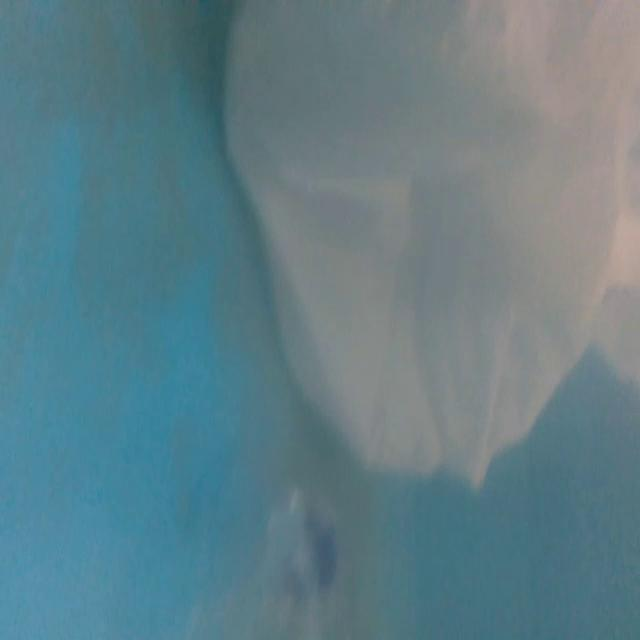plastic bags: (217, 0, 640, 491)
